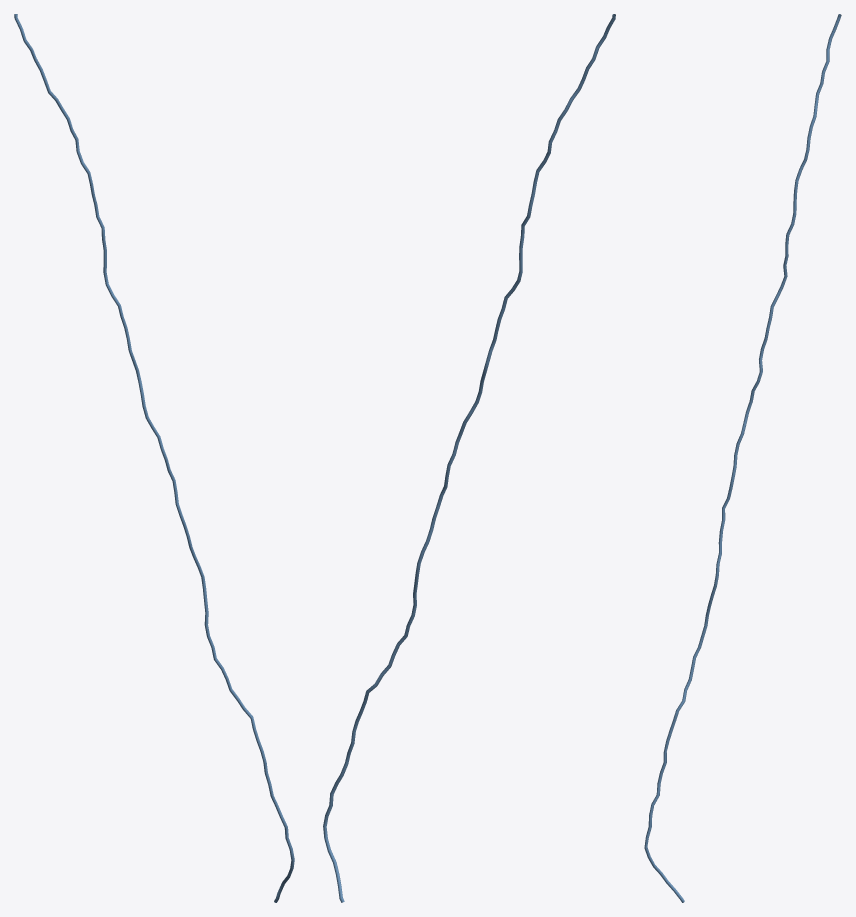
File: sweep285.fbx
3 renders of one model, left to right at view 1: azimuth 30°, elevation 25°; view 2: azimuth 210°, elevation 25°; view 3: azimuth 270°, elevation 25°, orthographic. The views are drawn at different scales.
Visible parts, largest first — view 1: sweep285; view 2: sweep285; view 3: sweep285.
Part boxes in pixels (left/top/right/bottom): sweep285: left=14, top=14, right=294, bottom=902; sweep285: left=323, top=14, right=615, bottom=902; sweep285: left=644, top=14, right=841, bottom=902.
Bounding box in the file's own units: 1.17 × 5.42 × 1.2.
